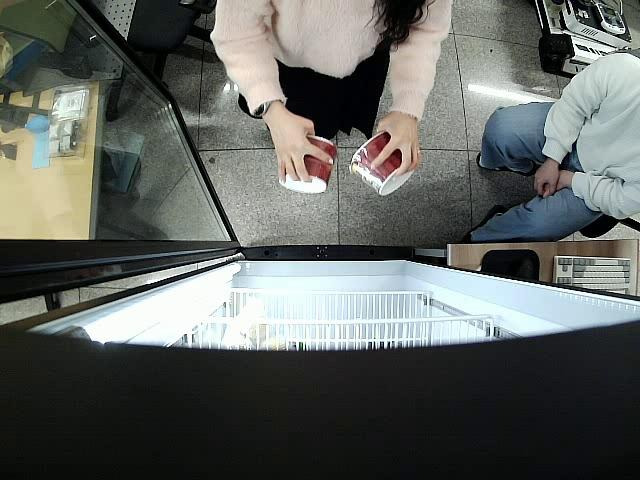00_hand: (266, 101, 332, 181), (370, 114, 424, 178), (530, 161, 565, 199)
05_nuguri_L: (348, 130, 414, 195), (278, 134, 337, 196)
